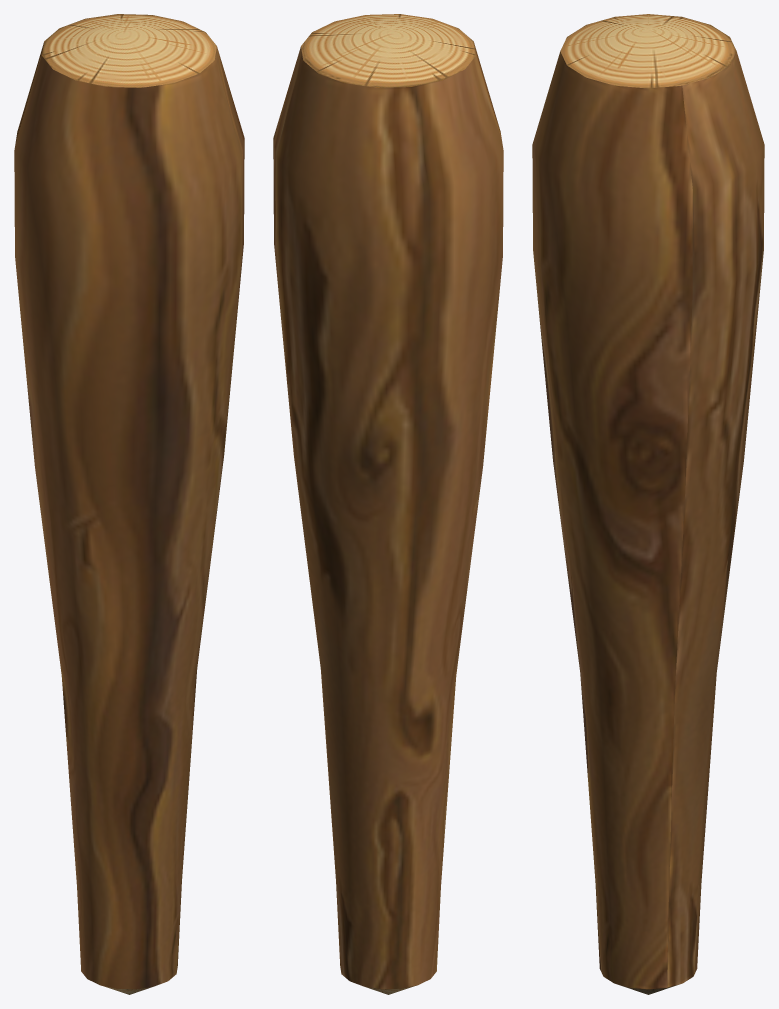
File: Caveman Club.FBX
The picture shows the model from 3 angles, left to right: view 1: azimuth 30°, elevation 25°; view 2: azimuth 150°, elevation 25°; view 3: azimuth 270°, elevation 25°; orthographic projection.
Parts seen in each view (by area): view 1: club; view 2: club; view 3: club.
Part boxes in pixels (x1,y1,x2,y2): club: (14, 14, 244, 994); club: (273, 14, 503, 994); club: (532, 14, 764, 994).
Size of the model in its own units: 1.11 by 5.07 by 1.11.
